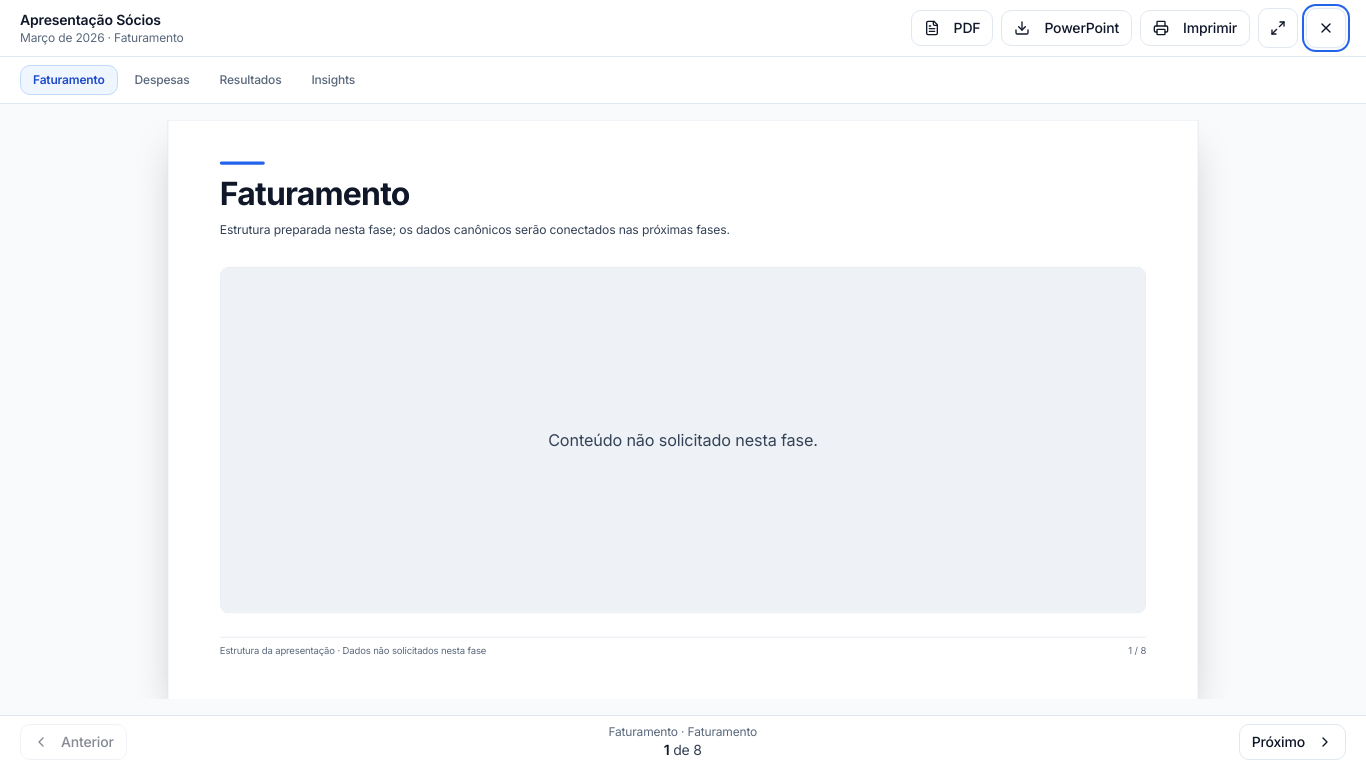
modo apresentação › cancela exportação em andamento e libera novamente os controles
Click the button with aria-label "exportar apresentação em pdf".
click(952, 28)  # box [911,10,993,46]
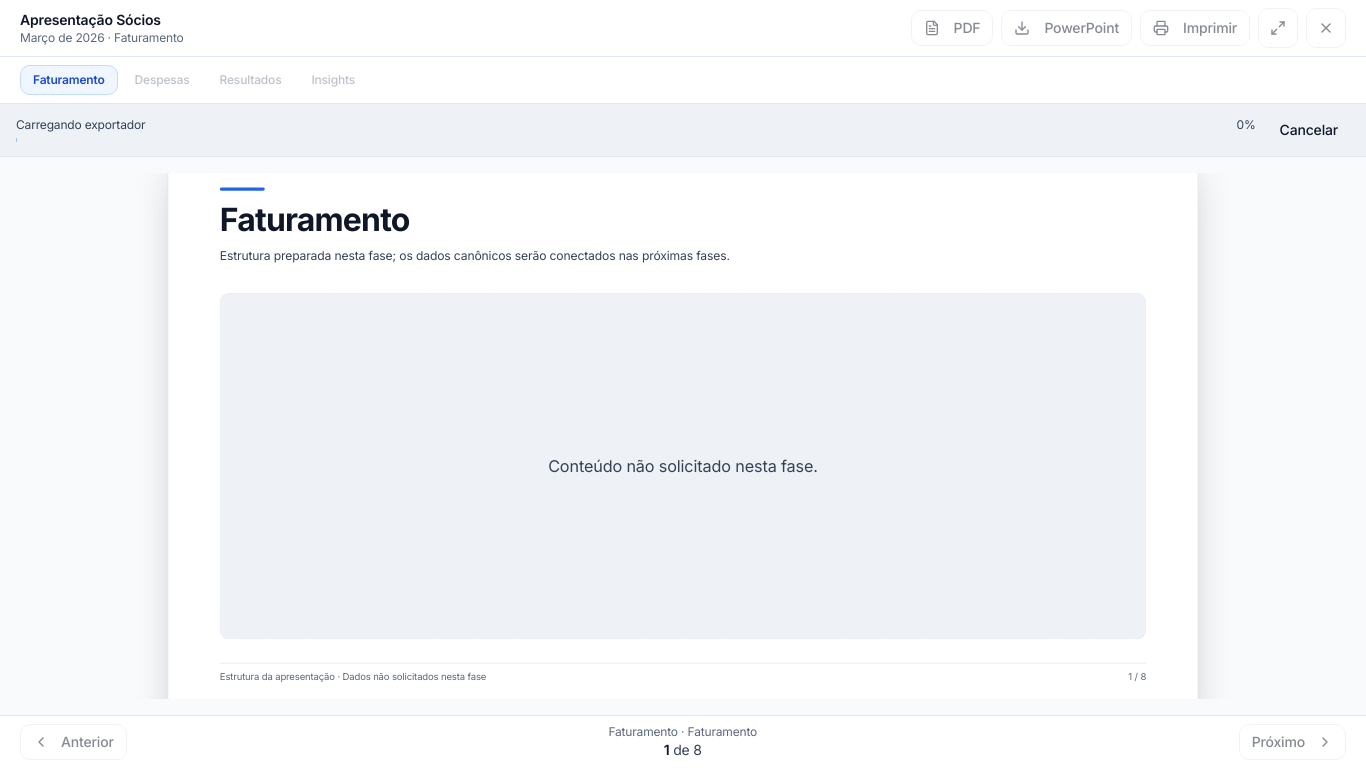
Expected: the button with aria-label "próximo slide" is disabled, [1239,724,1346,760]
Expected: the button named "sair do modo apresentação" is disabled, [1306,8,1346,48]
Click the button "Cancelar".
click(1309, 130)  # box [1268,112,1350,148]
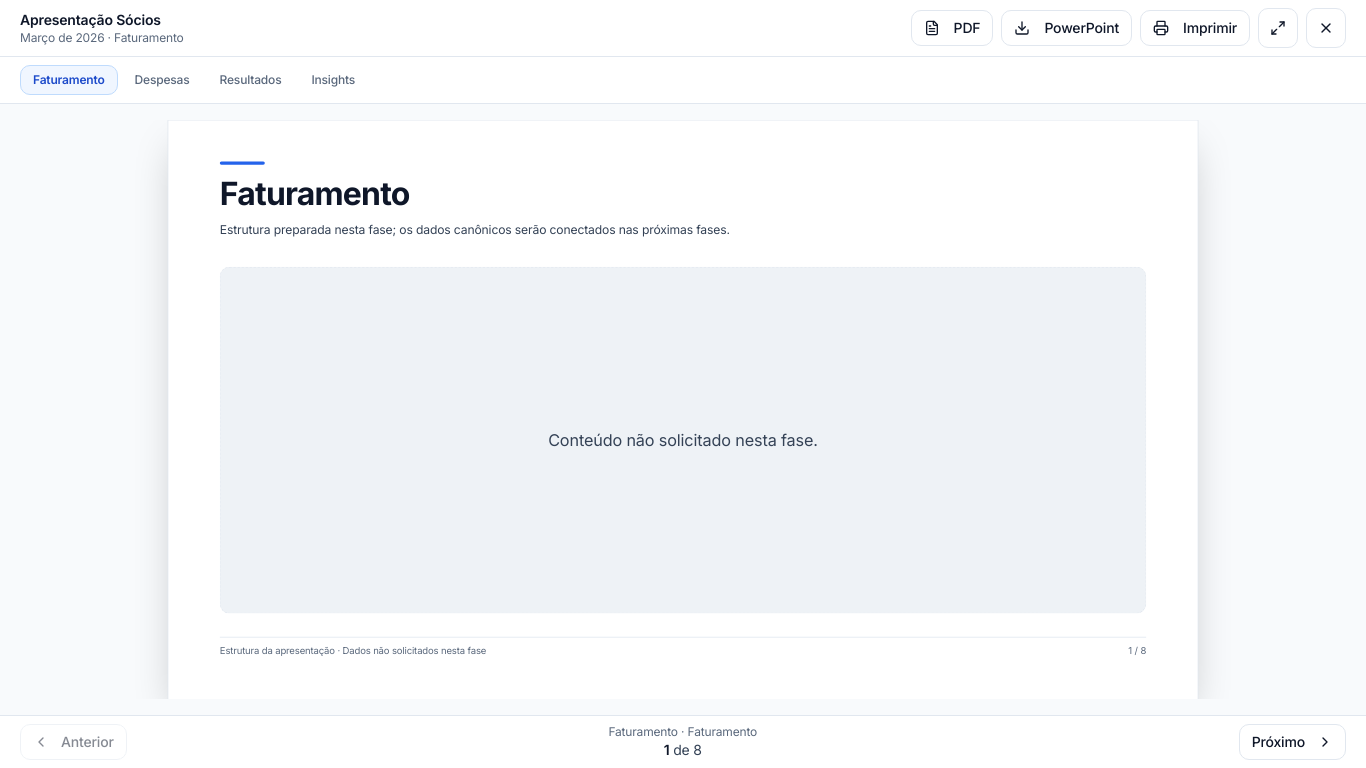
Expected: the button "Cancelar" is gone
Expected: the button with aria-label "exportar apresentação em pdf" is enabled, [911,10,993,46]
